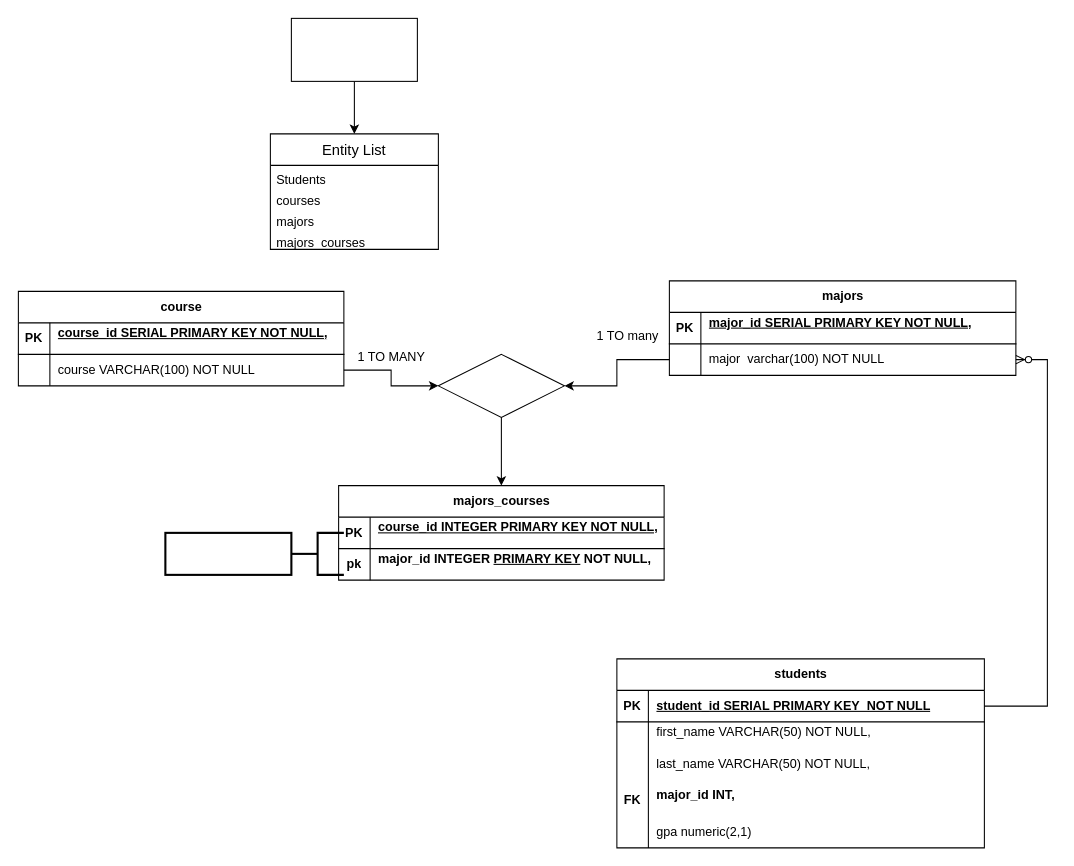
Image size: 1074x866. Some labels were removed from this diagram. Here are the shapes that lost their labels. From the top down, the centre of each, then its label:
At point 353,49: "database: Students".
At point 500,385: "Relationship".
At point 228,553: "Composit primary key".
